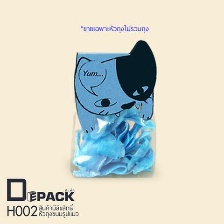snack: (63, 36, 163, 183)
